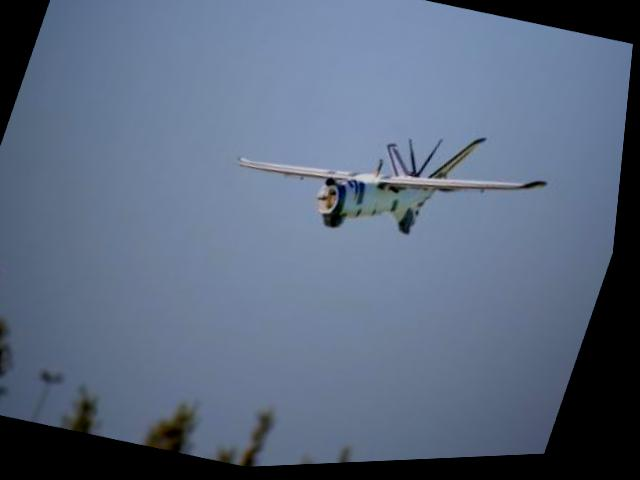uav: (221, 80, 568, 284)
